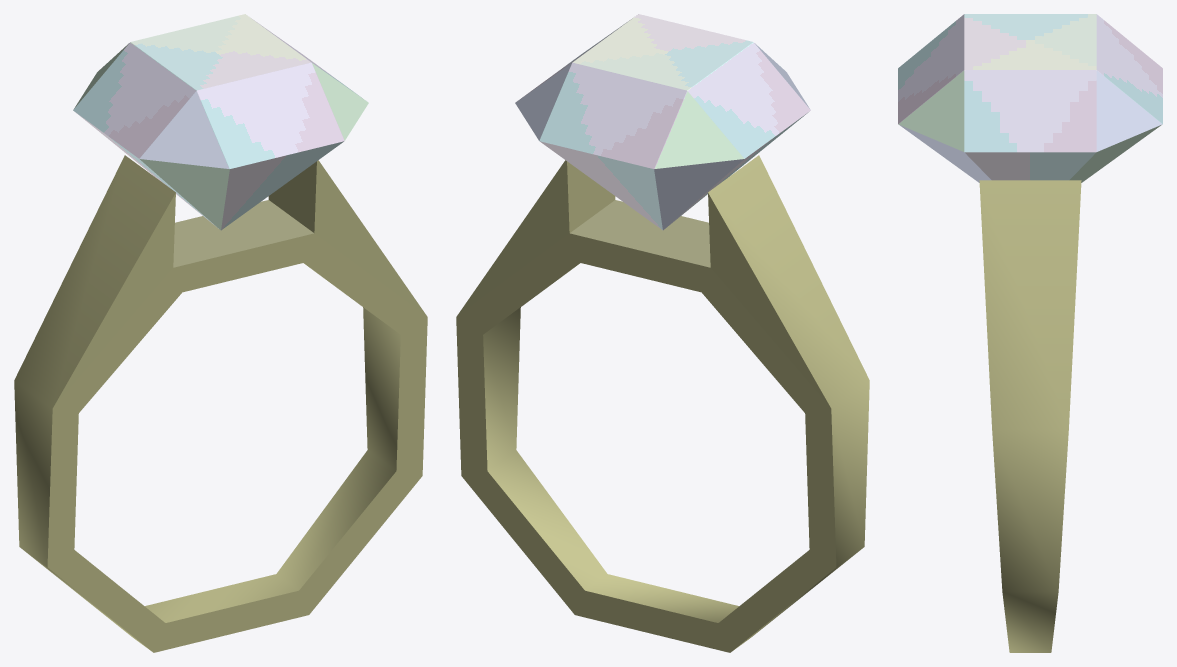
File: 0032_Diamond_Ring.glb
The picture shows the model from 3 angles, left to right: view 1: azimuth 30°, elevation 25°; view 2: azimuth 150°, elevation 25°; view 3: azimuth 270°, elevation 25°; orthographic projection.
Visible parts, largest first — view 1: part_0; view 2: part_0; view 3: part_0.
Boxes of the visible parts, bbox=[...] form: part_0: bbox=[14, 14, 427, 652]; part_0: bbox=[456, 14, 869, 652]; part_0: bbox=[898, 14, 1162, 652].
Bounding box in the file's own units: 0.0323 × 0.0472 × 0.0198.
1 material, 1 textured.
